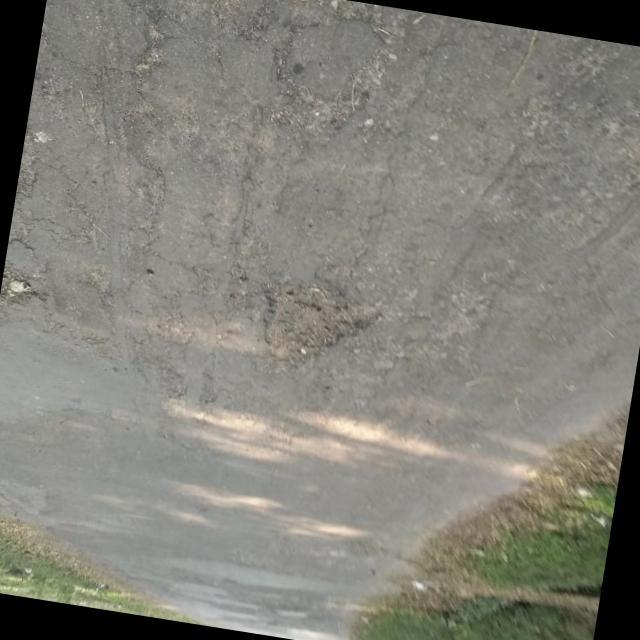Pothole: (259, 281, 378, 375)
